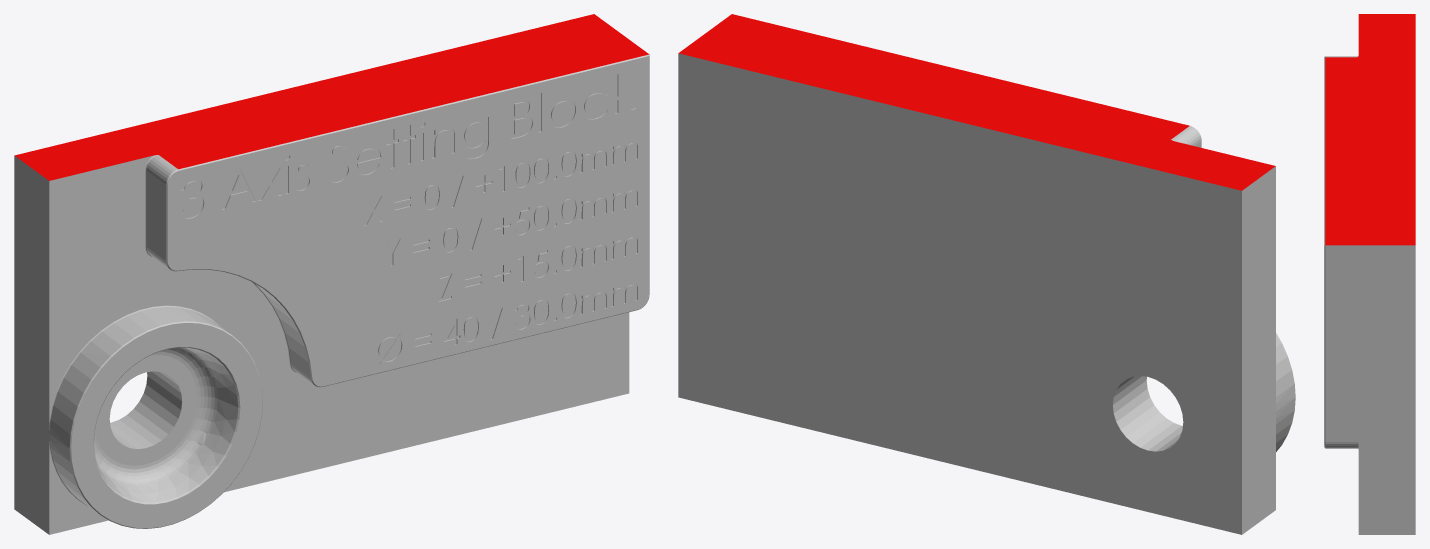
File: TESTE_M3_stp_31.obj
3 views of the same model, side by side, from view 1: azimuth 30°, elevation 25°; view 2: azimuth 150°, elevation 25°; view 3: azimuth 270°, elevation 25° (orthographic). The views are drawn at different scales.
Parts seen in each view (by area): view 1: Object1; view 2: Object1; view 3: Object1.
Boxes of the visible parts, x1,y1,x2,y2 form: Object1: (14,14,649,534); Object1: (678,14,1295,534); Object1: (1324,14,1415,534).
Size of the model in its own units: 120 by 70 by 20.
